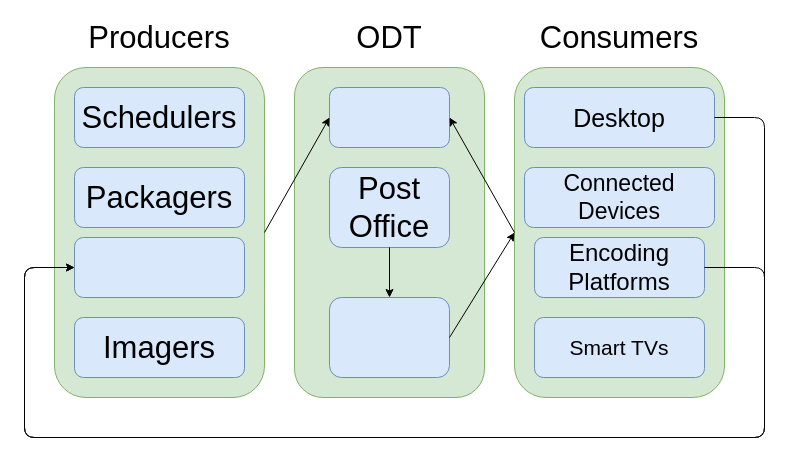
The diagram is 790 pixels wide and 463 high, and some of its shapes have lost their labels. Each missing label, with the centre of its shape:
"API" goes at (x=389, y=117).
"Encoders" goes at (x=159, y=267).
"MQ" goes at (x=389, y=337).
